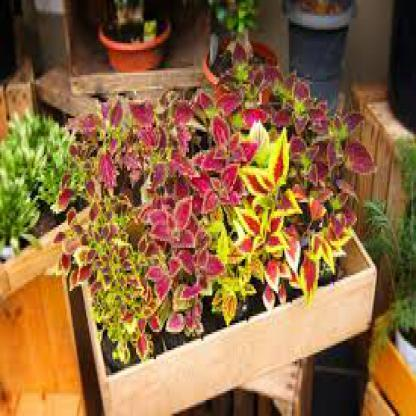Bunga Coleus: (88, 106, 342, 265)
